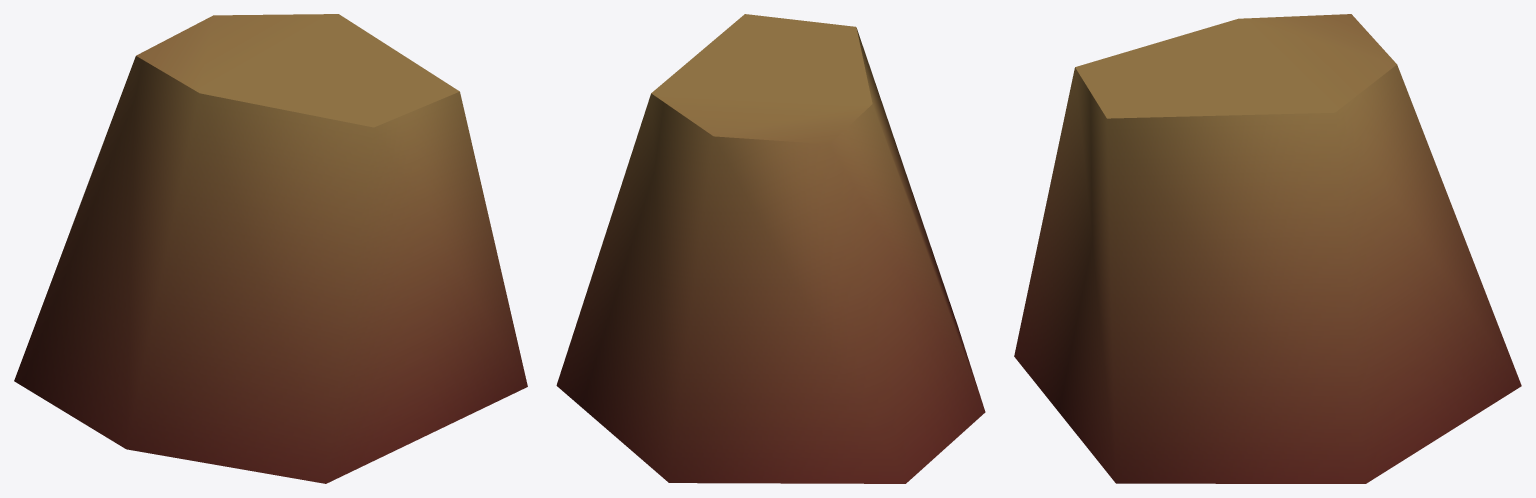
The model's file is Mountain_small.005.fbx.
3 views of the same model, side by side, from view 1: azimuth 30°, elevation 25°; view 2: azimuth 150°, elevation 25°; view 3: azimuth 270°, elevation 25° (orthographic). The views are drawn at different scales.
Visible parts, largest first — view 1: Mountain_small.005; view 2: Mountain_small.005; view 3: Mountain_small.005.
Part boxes in pixels (<box>): Mountain_small.005: <box>14,14,527,483</box>; Mountain_small.005: <box>556,14,985,483</box>; Mountain_small.005: <box>1014,14,1521,483</box>.
Size of the model in its own units: 4.36 by 3.46 by 4.85.
